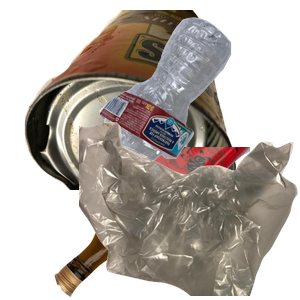glass: (52, 147, 292, 300)
metal: (22, 10, 251, 190)
plastic: (96, 15, 300, 184)
trash: (79, 120, 300, 300)
